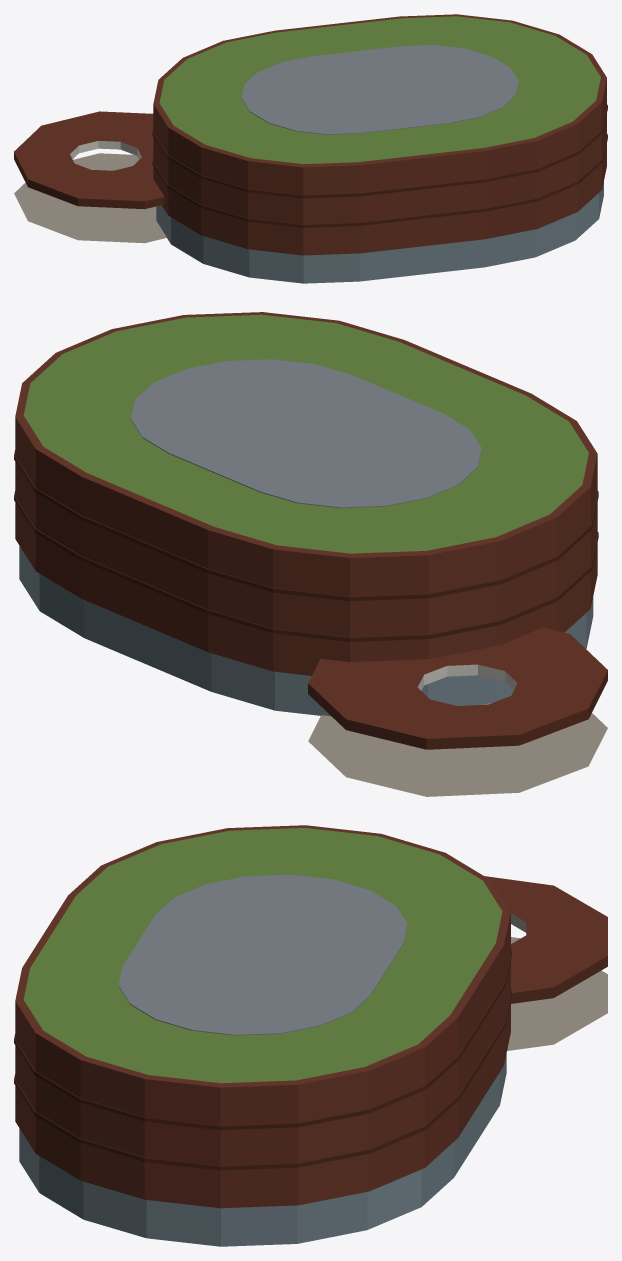
3 views of the same model, one above another, from view 1: azimuth 30°, elevation 25°; view 2: azimuth 150°, elevation 25°; view 3: azimuth 270°, elevation 25° (orthographic). The views are drawn at different scales.
Parts seen in each view (by area): view 1: brooklyn-arena-lod1; view 2: brooklyn-arena-lod1; view 3: brooklyn-arena-lod1.
Boxes of the visible parts, x1,y1,x2,y2 form: brooklyn-arena-lod1: (14,14,607,283); brooklyn-arena-lod1: (14,312,607,796); brooklyn-arena-lod1: (14,825,607,1246).
Bounding box in the file's own units: 244 × 58.2 × 193.
